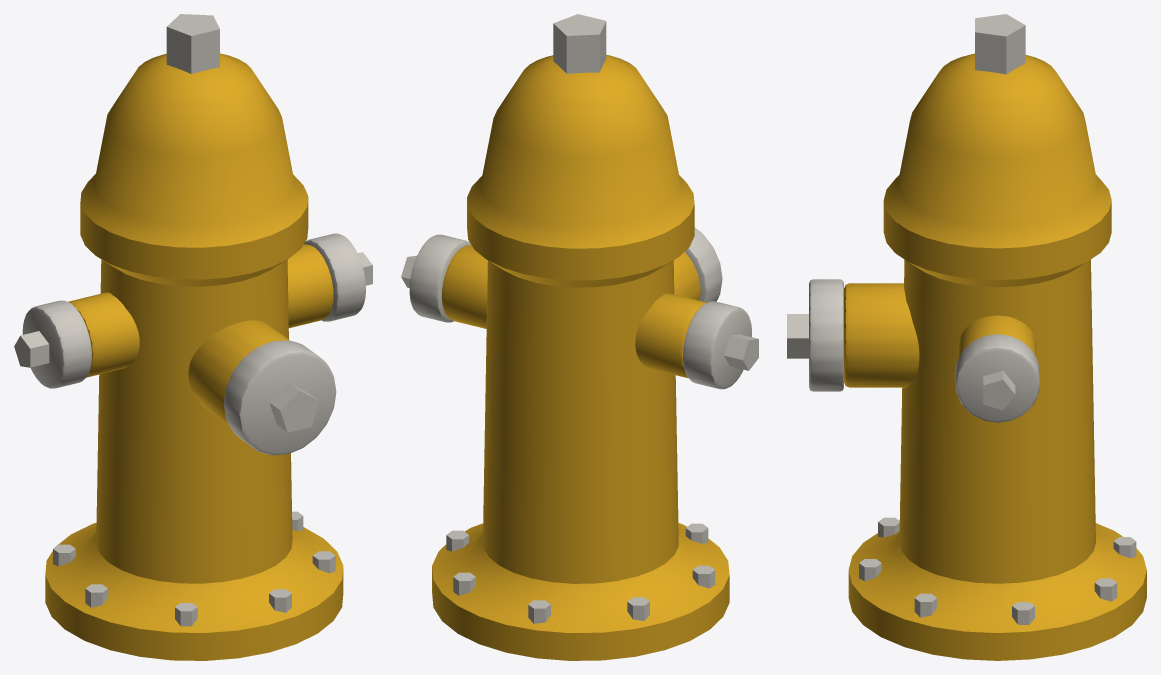
The model's file is fire_hydrant.glb.
The picture shows the model from 3 angles, left to right: view 1: azimuth 30°, elevation 25°; view 2: azimuth 150°, elevation 25°; view 3: azimuth 270°, elevation 25°; orthographic projection.
Visible parts, largest first — view 1: body; view 2: body; view 3: body.
Boxes of the visible parts, x1,y1,x2,y2 form: body: [14, 14, 372, 660]; body: [401, 14, 758, 660]; body: [787, 14, 1146, 660].
Bounding box in the file's own units: 0.45 × 0.72 × 0.41.
